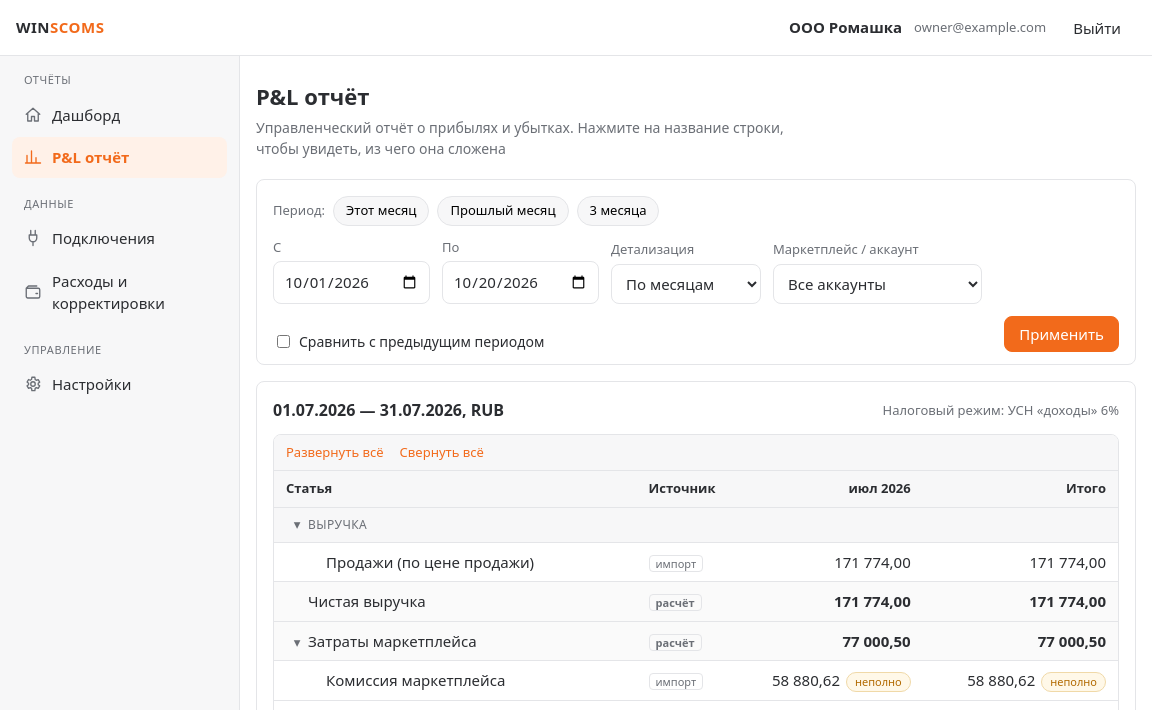
it: страница P&L › расшифровка строки загружает записи из API
Click the button "Комиссия маркетплейса". click: point(416, 681)
box: [326,669,505,692]
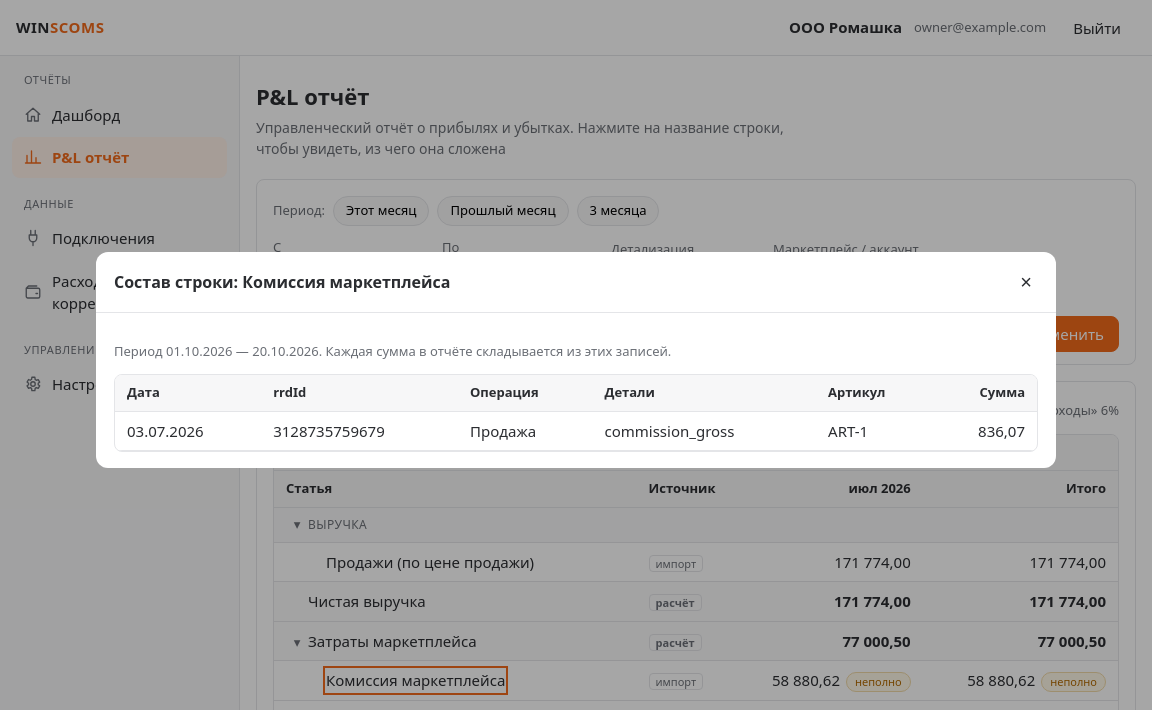
expect the text "836,07" is shown: met, box [934,411,1037,451]
expect the text "3128735759679" is shown: met, box [261,411,458,451]
Press Escape
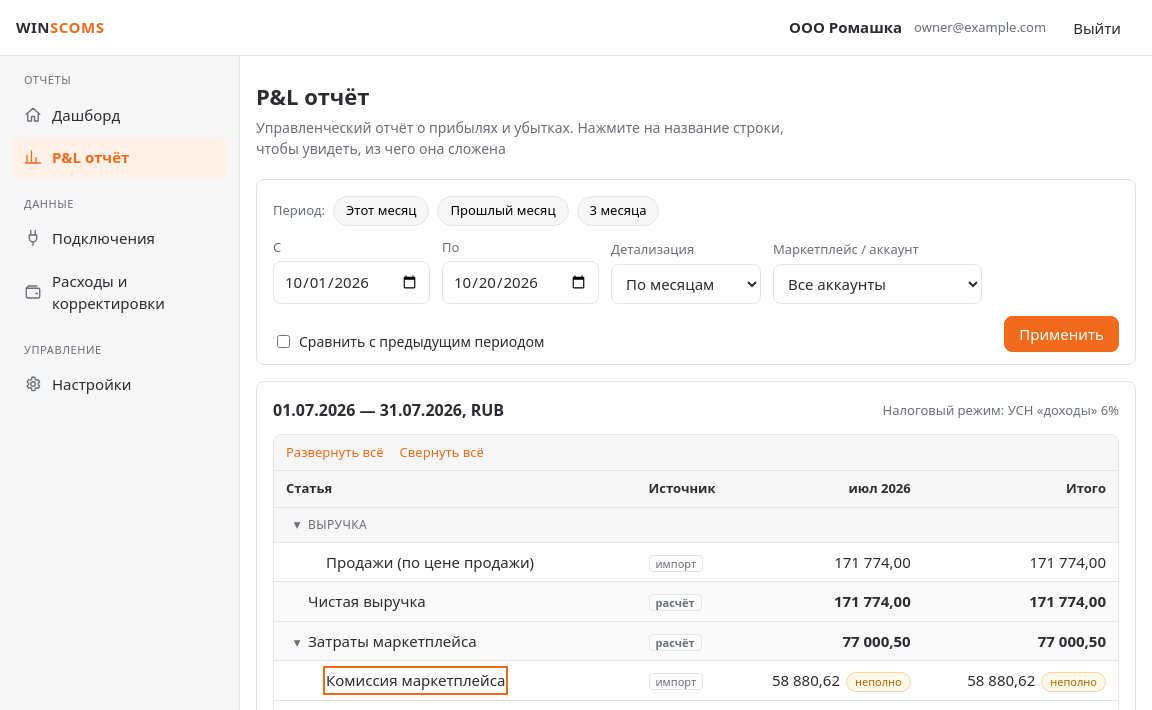
expect the dialog is gone: met
